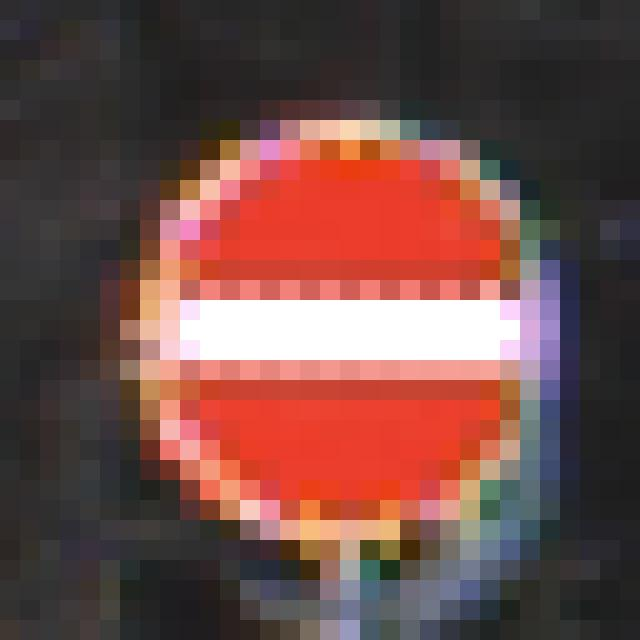No Entry: (121, 121, 541, 541)
